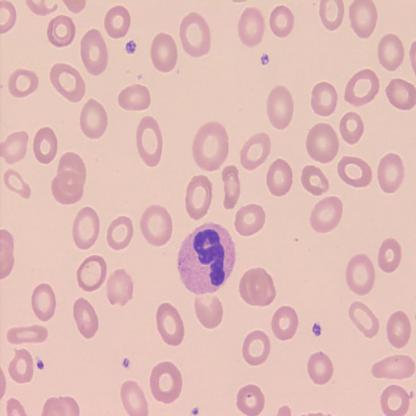Segmented neutrophil: (176, 219, 238, 298)
